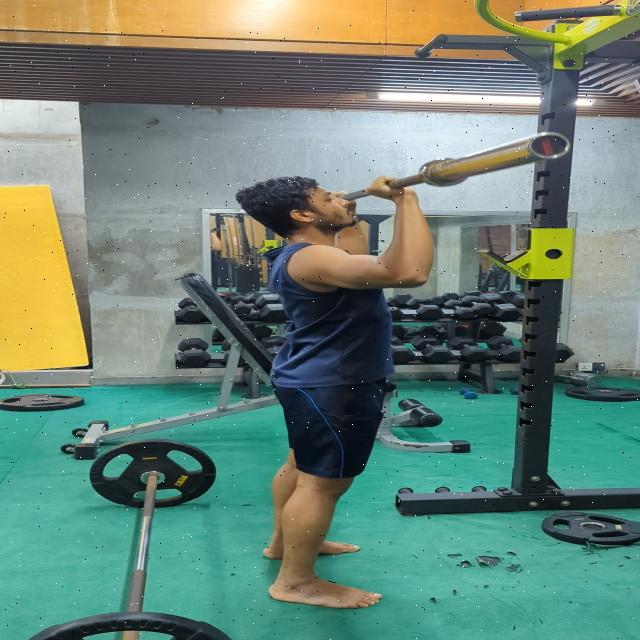Normal_OverheadPress: (202, 152, 444, 622)
